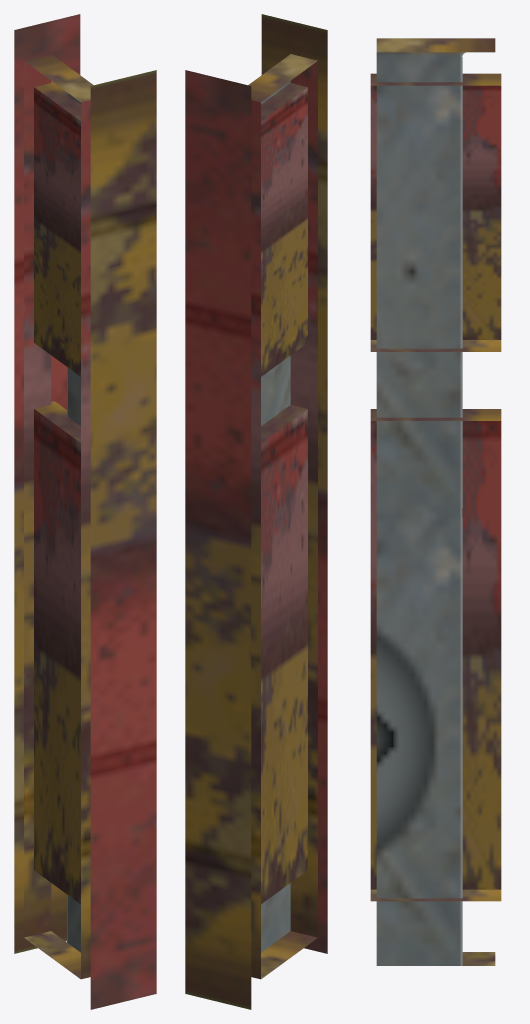
The model's file is SM_CABLES_PILLAR_01.fbx.
3 renders of one model, left to right at view 1: azimuth 30°, elevation 25°; view 2: azimuth 150°, elevation 25°; view 3: azimuth 270°, elevation 25°, orthographic. The views are drawn at different scales.
Visible parts, largest first — view 1: SM_CABLES_PILLAR_01; view 2: SM_CABLES_PILLAR_01; view 3: SM_CABLES_PILLAR_01.
Part boxes in pixels (<box>): SM_CABLES_PILLAR_01: <box>14,14,156,1009</box>; SM_CABLES_PILLAR_01: <box>185,14,327,1009</box>; SM_CABLES_PILLAR_01: <box>370,38,501,965</box>.
Size of the model in its own units: 0.3 by 4 by 0.6.
